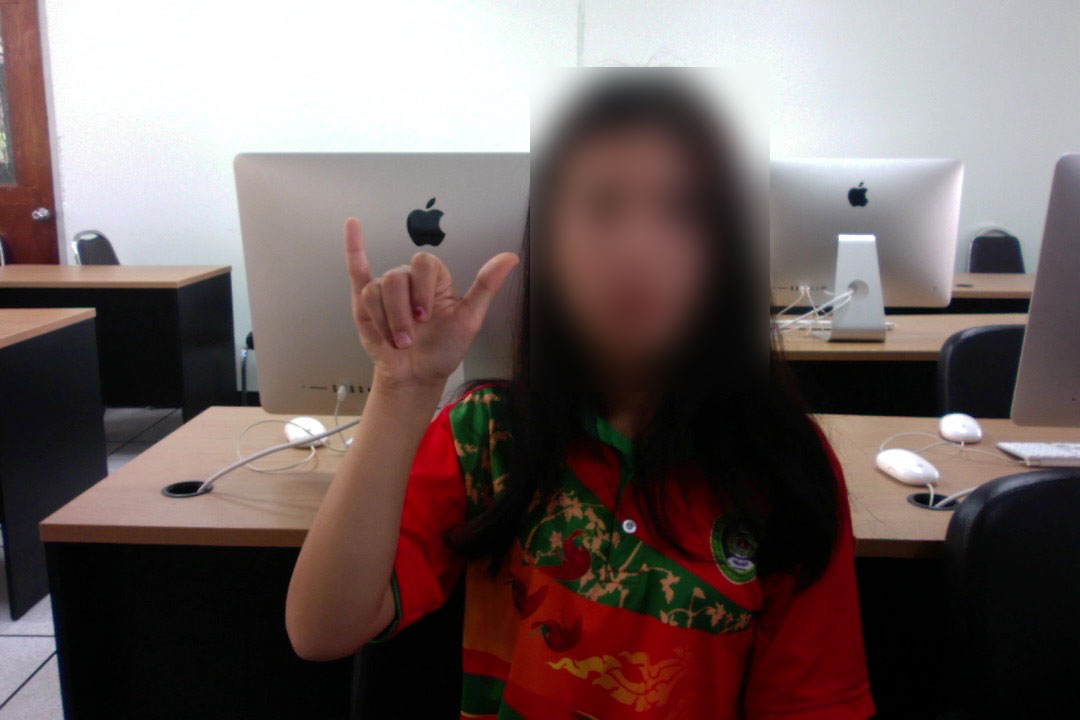yor: (337, 207, 530, 399)
